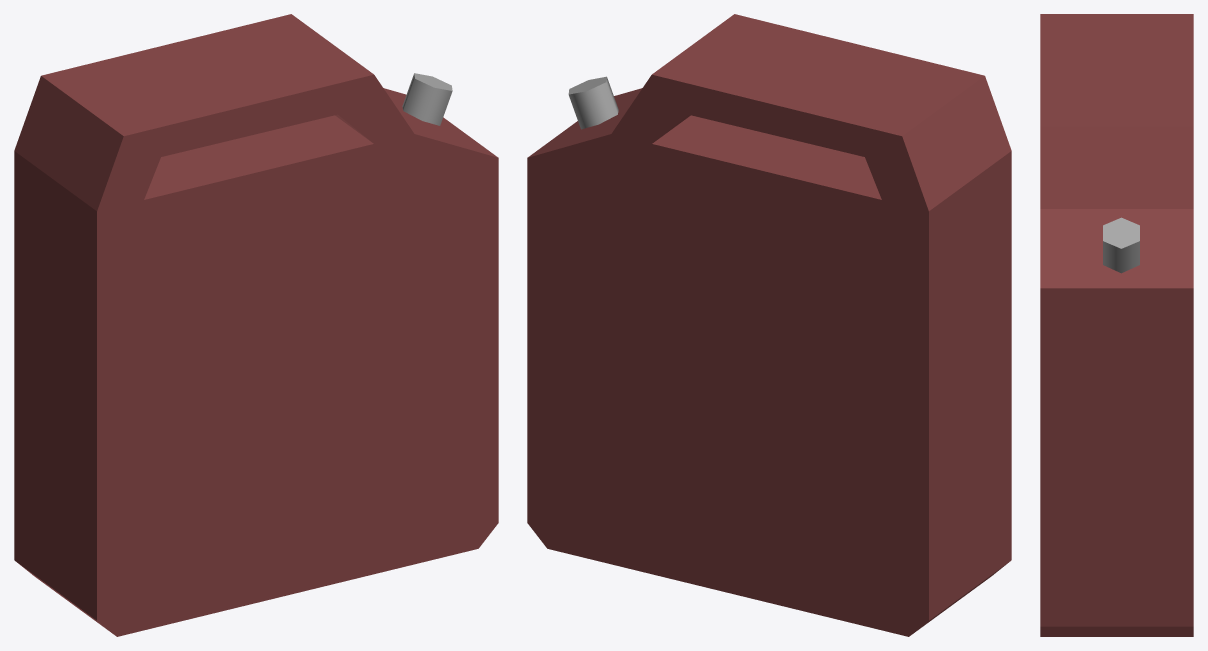
File: Pickup_Fuel.fbx
3 views of the same model, side by side, from view 1: azimuth 30°, elevation 25°; view 2: azimuth 150°, elevation 25°; view 3: azimuth 270°, elevation 25° (orthographic). The views are drawn at different scales.
Parts seen in each view (by area): view 1: Fuel; view 2: Fuel; view 3: Fuel.
Part boxes in pixels (x1,y1,x2,y2): Fuel: (14,14,498,636); Fuel: (527,14,1011,636); Fuel: (1040,14,1193,636).
Bounding box in the file's own units: 0.6417 × 0.7628 × 0.2291.
